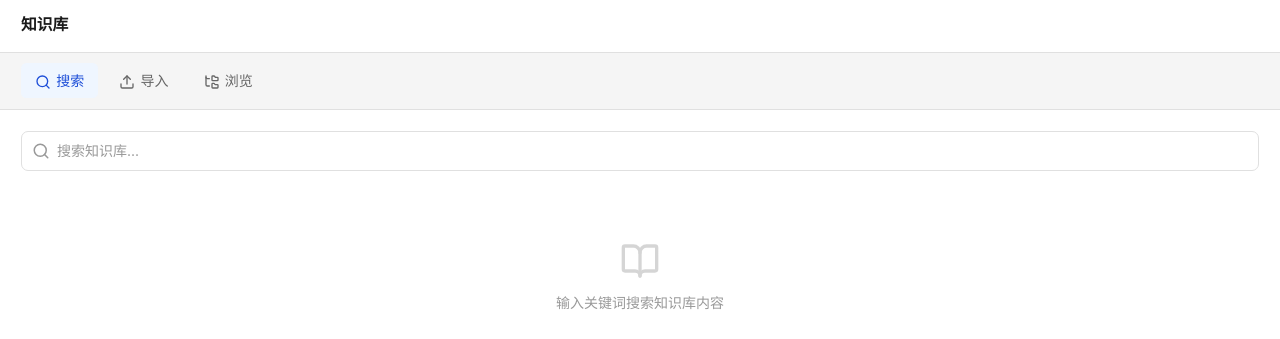
Scenario: KnowledgePanel › reads content of a directory-flagged entry when it carries content levels (VFS doc nodes)
The width and height of the screenshot is (1280, 339).
Click the tab "浏览" at (228, 80), box [190,63,267,98]
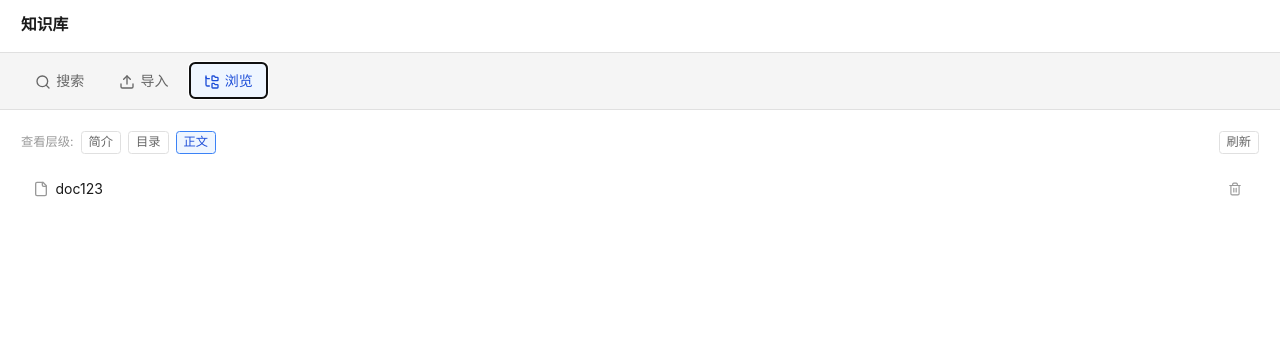
Expected: the text "doc123" is shown, [56,178,103,199]
Click the button "doc123" at (79, 189), box [32,178,1216,199]
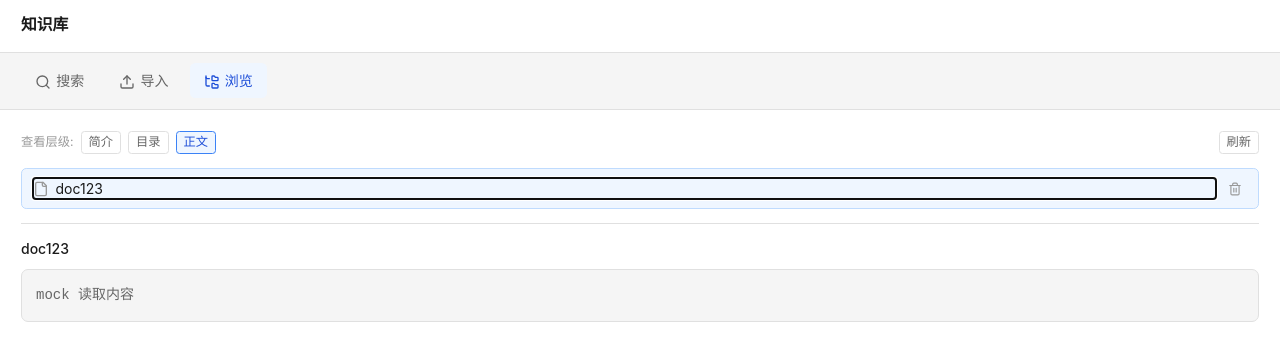
Expected: the text "mock 读取内容" is shown, [21,269,1259,322]
